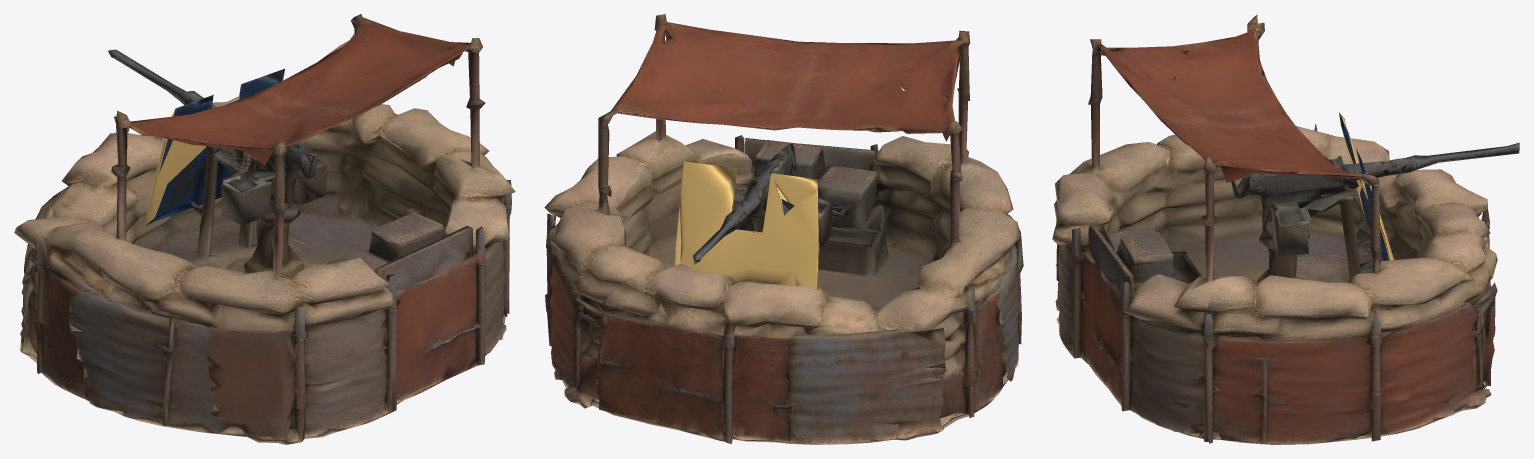
The model's file is gun_nest.glb.
3 renders of one model, left to right at view 1: azimuth 30°, elevation 25°; view 2: azimuth 150°, elevation 25°; view 3: azimuth 270°, elevation 25°, orthographic. The views are drawn at different scales.
Visible parts, largest first — view 1: Model; view 2: Model; view 3: Model.
Boxes of the visible parts, x1,y1,x2,y2 form: Model: (14,14,515,444); Model: (544,14,1023,444); Model: (1052,14,1519,444).
Bounding box in the file's own units: 2 × 1.28 × 1.99.
2 materials, 1 textured.
